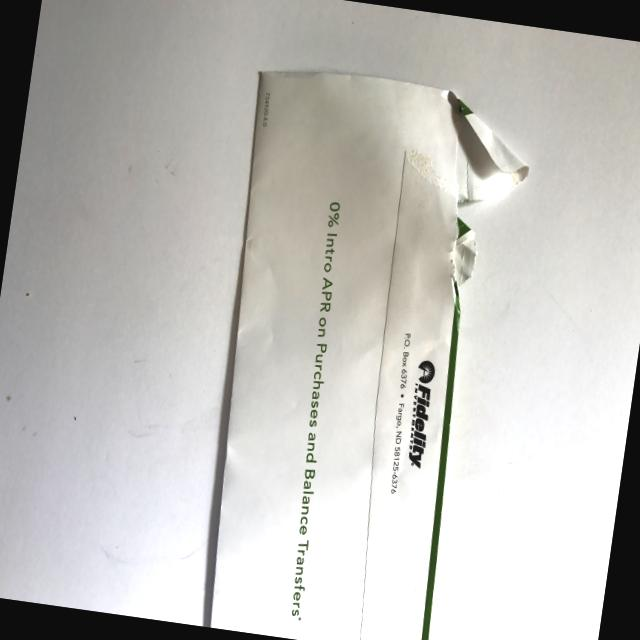Paper: (168, 48, 553, 640)
